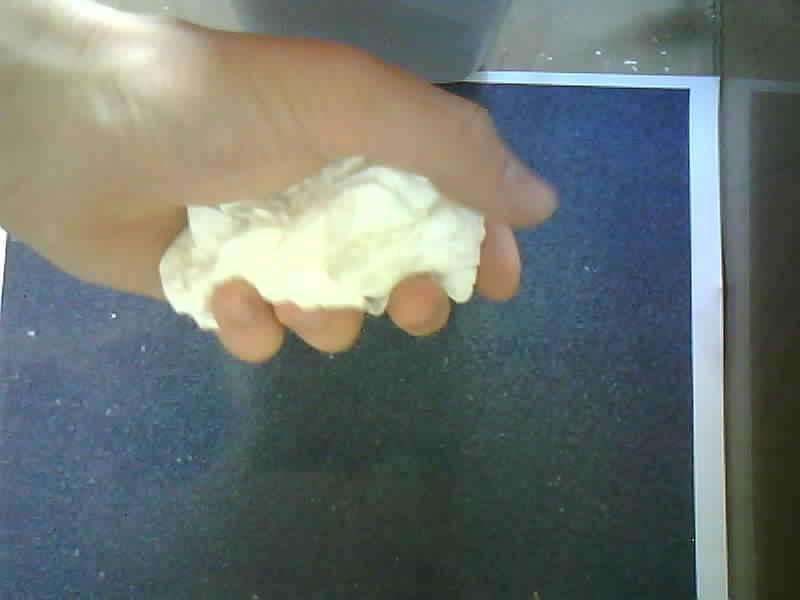paper: (161, 158, 484, 330)
